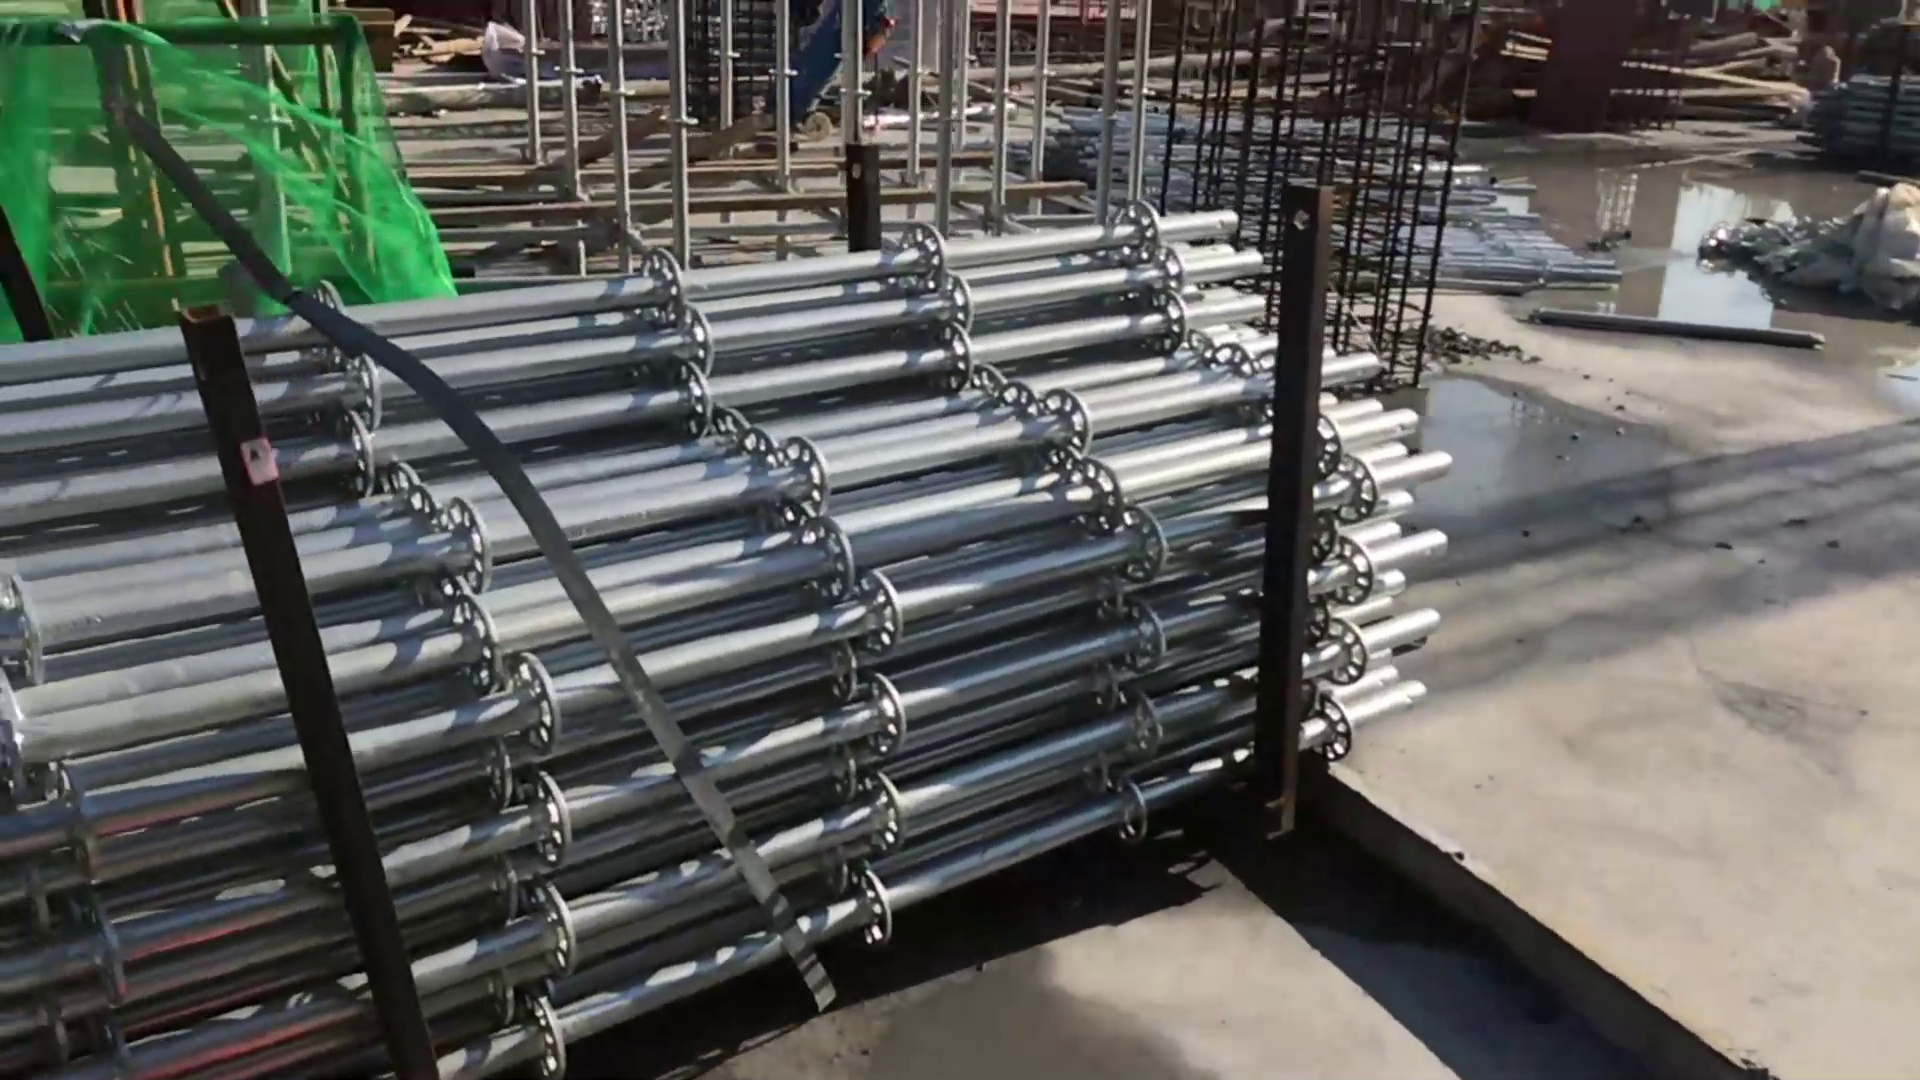scaffold: (1, 204, 1451, 1080), (1447, 179, 1618, 293)
